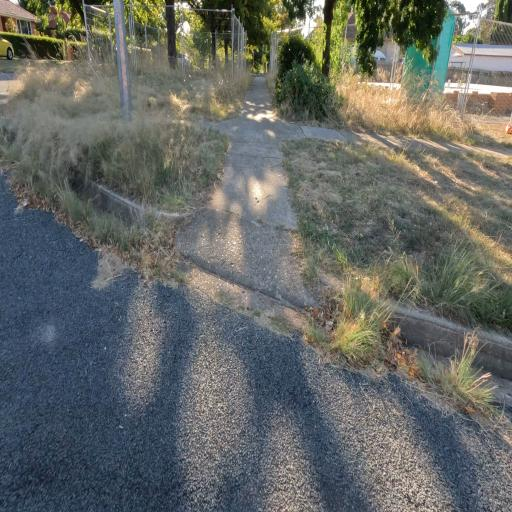kerb_cut: (177, 214, 300, 330)
